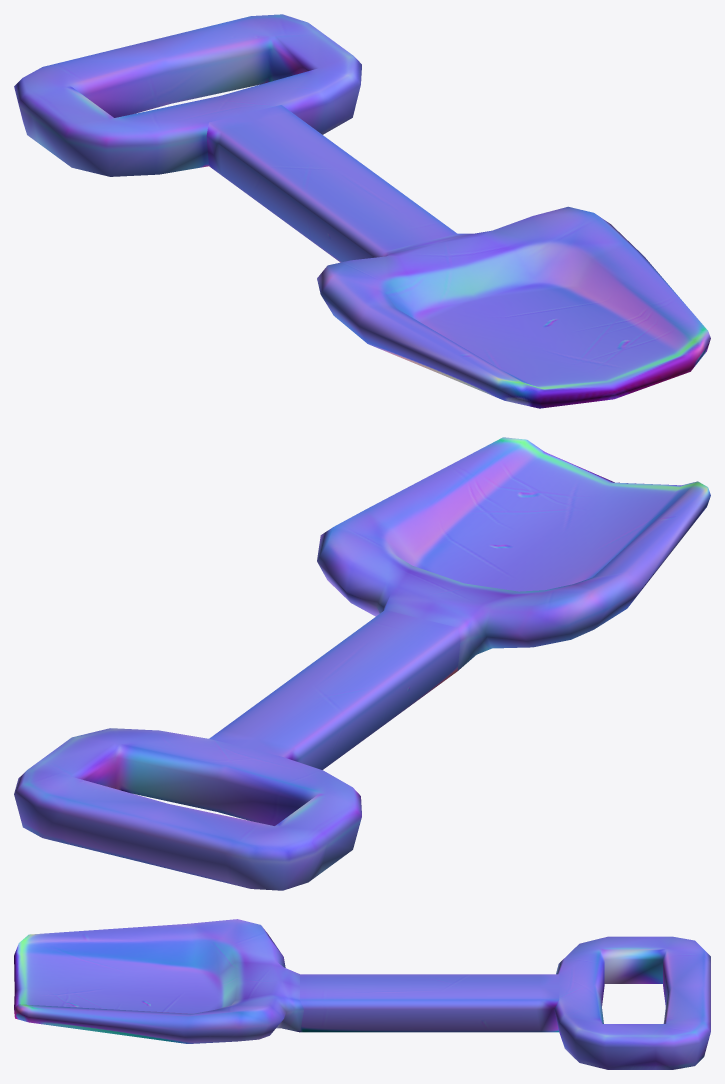
The model's file is Shovel.fbx.
The picture shows the model from 3 angles, top to bottom: view 1: azimuth 30°, elevation 25°; view 2: azimuth 150°, elevation 25°; view 3: azimuth 270°, elevation 25°; orthographic projection. The views are drawn at different scales.
Parts seen in each view (by area): view 1: Shovel_01; view 2: Shovel_01; view 3: Shovel_01.
Boxes of the visible parts, x1,y1,x2,y2 form: Shovel_01: [14, 14, 710, 408]; Shovel_01: [14, 437, 710, 890]; Shovel_01: [14, 919, 710, 1069].
Size of the model in its own units: 0.1778 by 0.4908 by 0.0417.
1 material, 1 textured.
